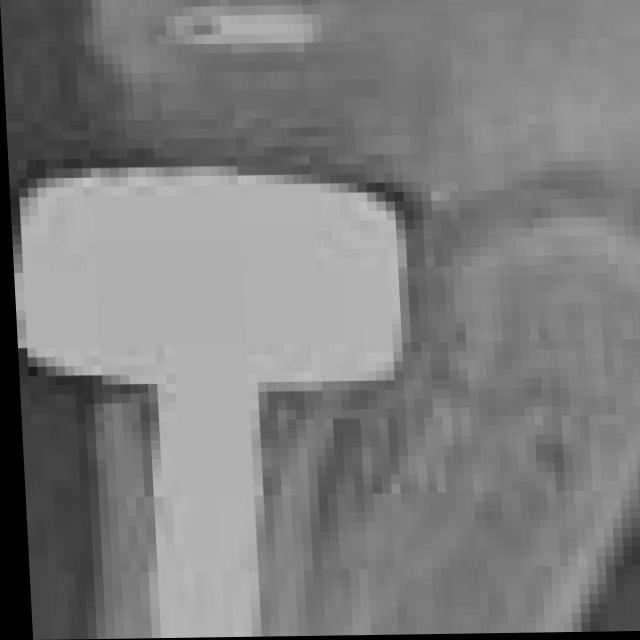fracture: (13, 0, 640, 634)
